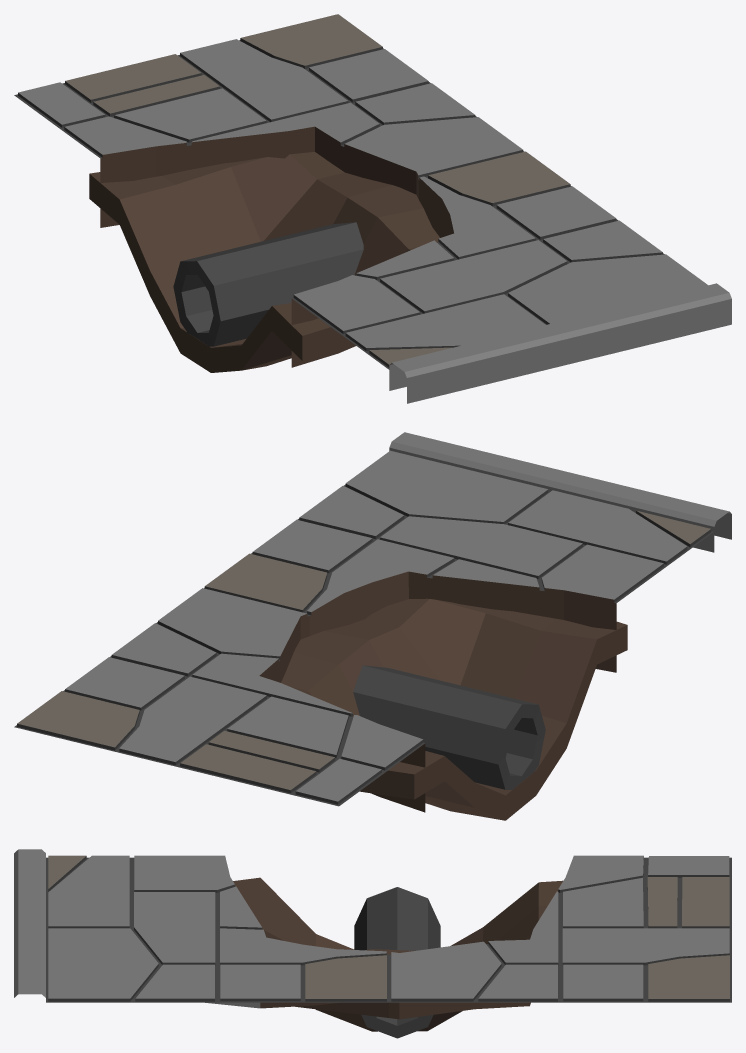
The model's file is Walkway Modern Hole C - 1.001.fbx.
3 views of the same model, one above another, from view 1: azimuth 30°, elevation 25°; view 2: azimuth 150°, elevation 25°; view 3: azimuth 270°, elevation 25° (orthographic). The views are drawn at different scales.
Visible parts, largest first — view 1: Walkway Modern Hole C - 1.001; view 2: Walkway Modern Hole C - 1.001; view 3: Walkway Modern Hole C - 1.001.
Boxes of the visible parts, <box> form: Walkway Modern Hole C - 1.001: <box>14,14,731,403</box>; Walkway Modern Hole C - 1.001: <box>14,432,731,820</box>; Walkway Modern Hole C - 1.001: <box>14,849,731,1038</box>.
Bounding box in the file's own units: 305 × 638 × 134.
